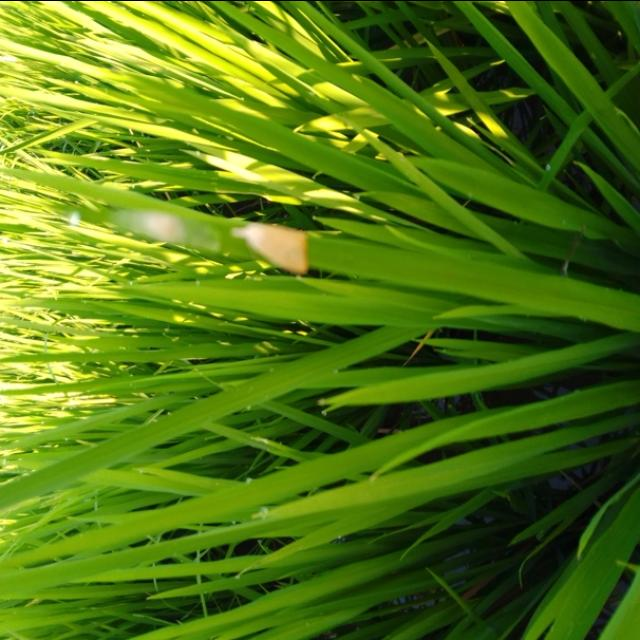Narrow brown: (206, 194, 328, 304)
